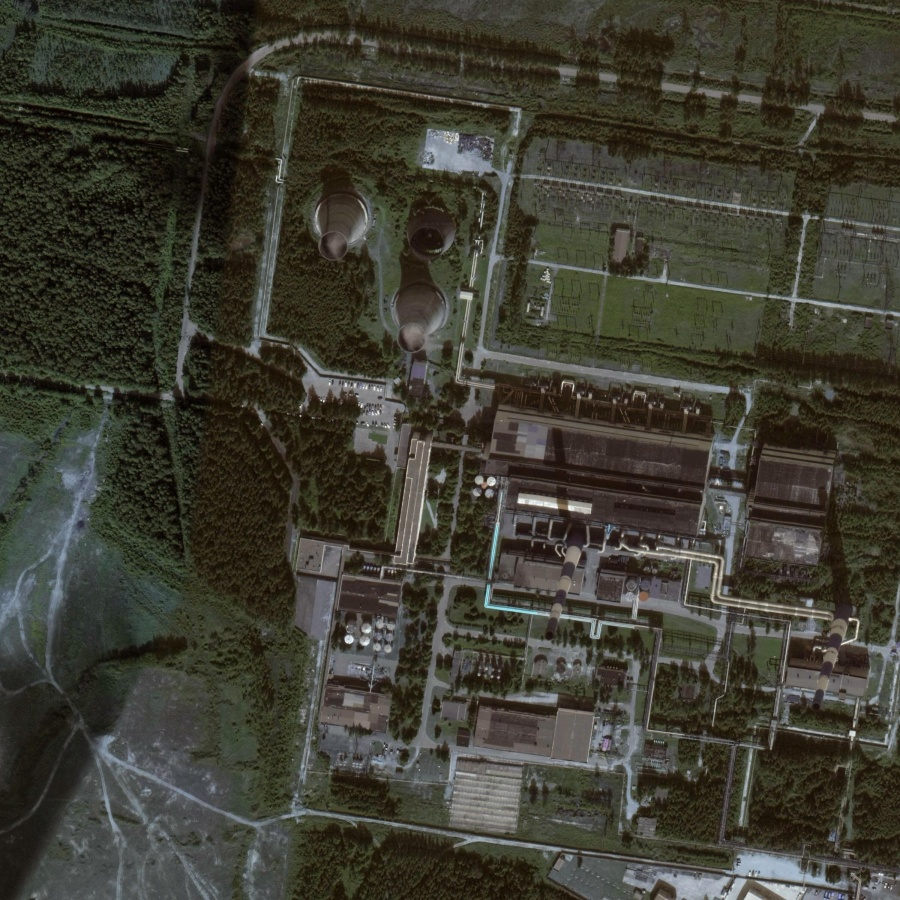PowerPlant: (498, 406, 856, 727), (287, 129, 486, 375)
